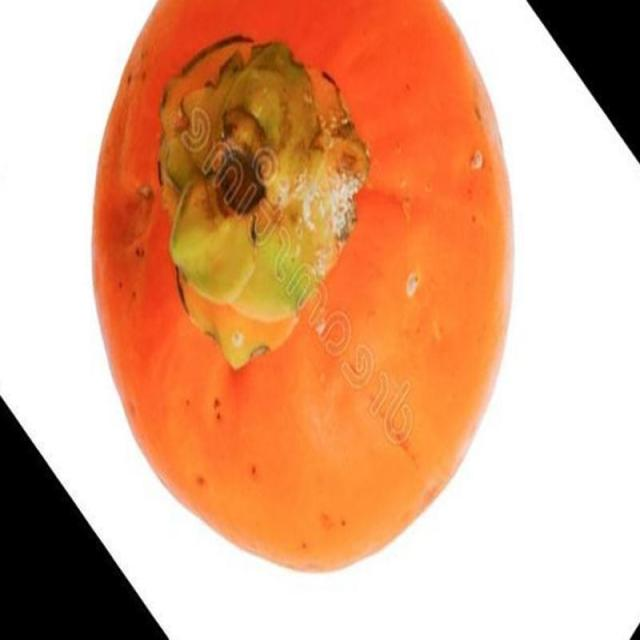good: (92, 0, 518, 578)
